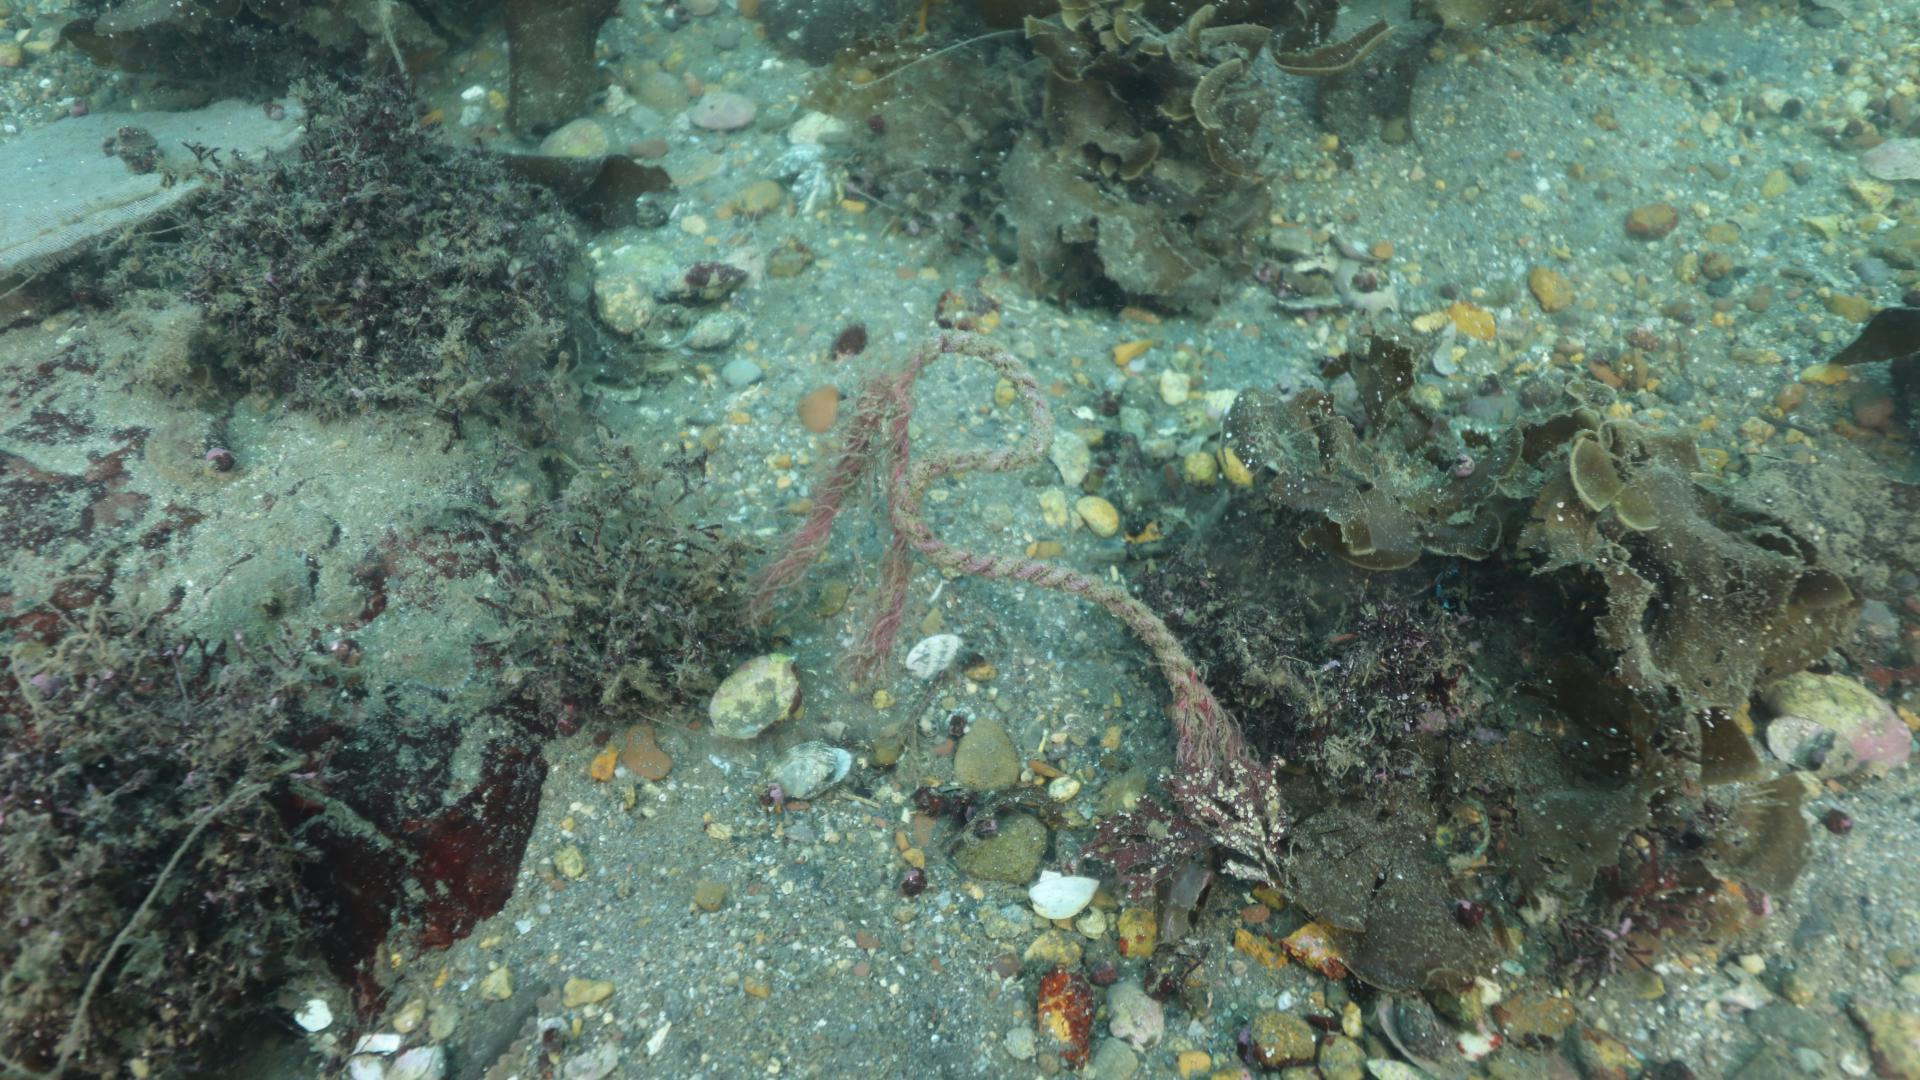rope: (886, 327, 1204, 699)
